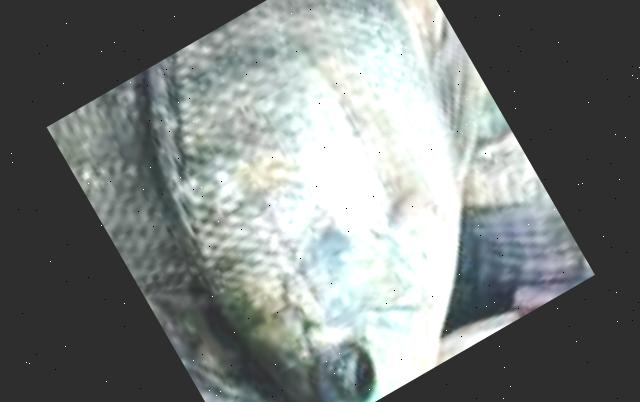Columnaris Disease: (148, 0, 482, 402)
